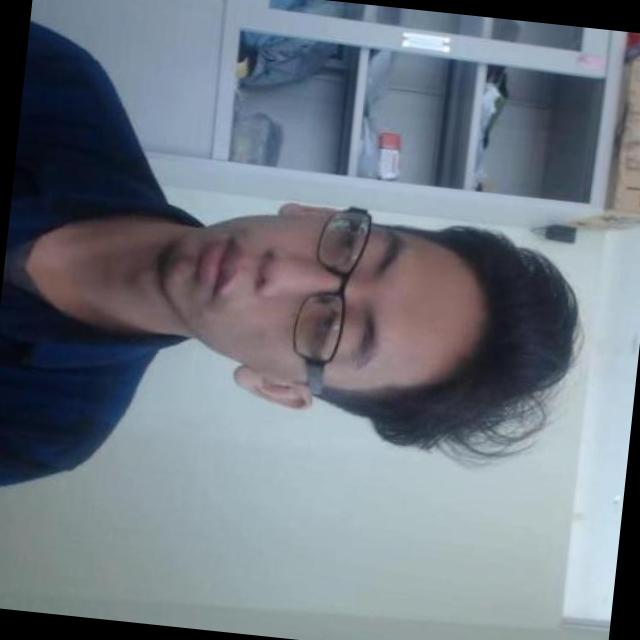bareface: (139, 174, 597, 462)
